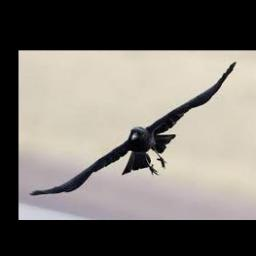Crow: (29, 60, 238, 196)
